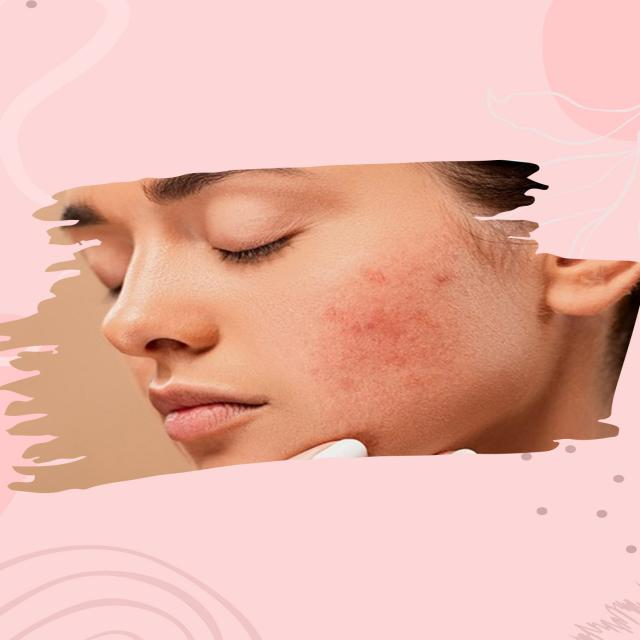Acne: (235, 268, 526, 400)
